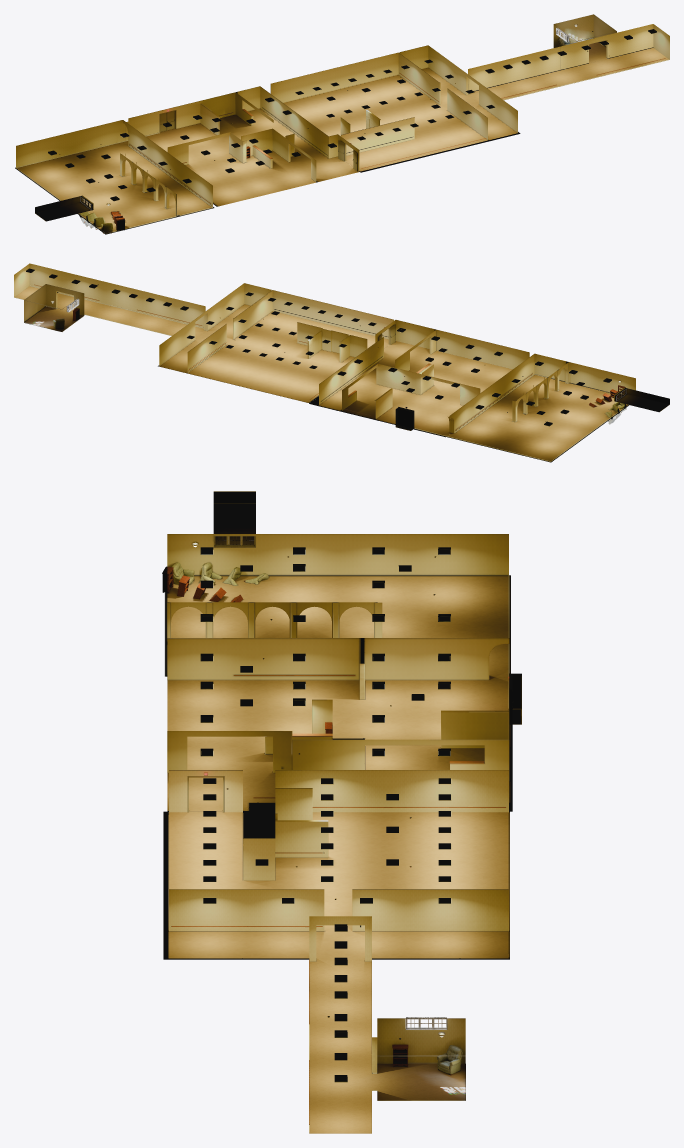
The model's file is backrooms_vr18_compressed.glb.
3 renders of one model, top to bottom at view 1: azimuth 30°, elevation 25°; view 2: azimuth 150°, elevation 25°; view 3: azimuth 270°, elevation 25°, orthographic. The views are drawn at different scales.
Parts seen in each view (by area): view 1: Object_19, Object_16, Object_21, Object_20, Object_25, Object_23, Object_14, Object_18, Object_4, Object_24, Object_27, Object_28 (+1 smaller); view 2: Object_19, Object_21, Object_16, Object_20, Object_25, Object_14, Object_23, Object_18, Object_4, Object_24, Object_22, Object_27 (+2 smaller); view 3: Object_19, Object_16, Object_20, Object_25, Object_21, Object_23, Object_18, Object_4, Object_14, Object_28, Object_22, Object_10 (+1 smaller).
Part boxes in pixels (box(x1,y1,x2,y2)): Object_19: box(283, 67, 520, 172); Object_16: box(270, 45, 517, 155); Object_21: box(15, 141, 214, 234); Object_20: box(126, 108, 358, 206); Object_25: box(125, 86, 359, 181); Object_23: box(16, 120, 212, 221); Object_14: box(468, 14, 669, 94); Object_18: box(468, 39, 668, 102); Object_4: box(48, 30, 656, 201); Object_24: box(16, 14, 669, 233); Object_27: box(129, 58, 665, 203); Object_28: box(79, 37, 570, 233); Object_19: box(158, 304, 389, 403); Object_21: box(446, 374, 629, 462); Object_16: box(159, 283, 393, 372); Object_20: box(309, 341, 512, 437); Object_25: box(319, 320, 529, 432); Object_14: box(14, 263, 205, 330); Object_23: box(449, 353, 669, 433); Object_18: box(15, 286, 205, 338); Object_4: box(26, 269, 611, 426); Object_24: box(14, 284, 628, 461); Object_22: box(49, 274, 584, 414); Object_27: box(34, 284, 532, 430); Object_19: box(163, 811, 509, 959); Object_16: box(169, 770, 508, 931); Object_20: box(167, 677, 512, 811); Object_25: box(167, 638, 521, 781); Object_21: box(164, 575, 510, 677); Object_23: box(167, 491, 508, 637); Object_18: box(309, 959, 465, 1133); Object_4: box(200, 549, 451, 1082); Object_14: box(309, 916, 465, 1073); Object_28: box(171, 562, 463, 1074); Object_22: box(240, 565, 424, 1060); Object_10: box(162, 566, 408, 1067).
Size of the model in its own units: 81.53 by 4.15 by 20.61.
28 materials, 27 textured.
